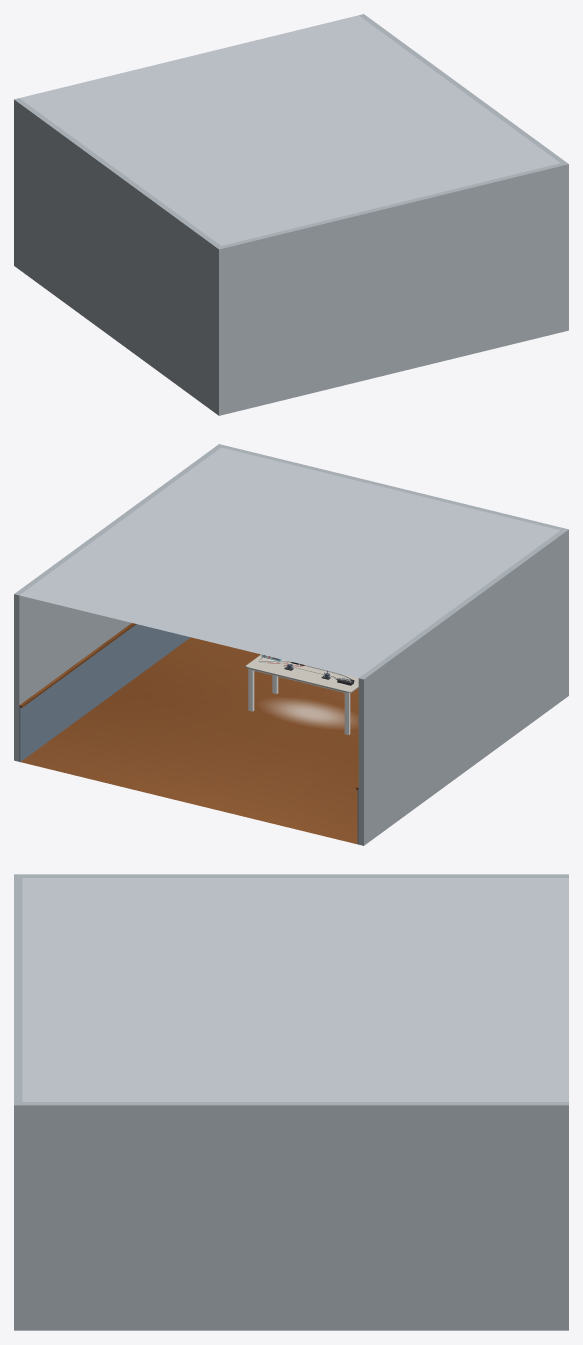
The model's file is OurLab.fbx.
3 views of the same model, one above another, from view 1: azimuth 30°, elevation 25°; view 2: azimuth 150°, elevation 25°; view 3: azimuth 270°, elevation 25° (orthographic). The views are drawn at different scales.
Parts seen in each view (by area): view 1: Ceiling, Back_Wall, Side_Wall.001, Side_Wall; view 2: Ceiling, Floor, Side_Wall.001, Side_Wall, Wainscot.001, Back_Wall, Wood, Contact_Shadow.006, Legs, Wainscot_Rail.001; view 3: Side_Wall, Ceiling, Back_Wall, Side_Wall.001.
Part boxes in pixels (x1=…): Ceiling: x1=19, y1=15, x2=560, y2=245; Back_Wall: x1=216, y1=162, x2=568, y2=415; Side_Wall.001: x1=14, y1=98, x2=220, y2=413; Side_Wall: x1=359, y1=14, x2=565, y2=162; Ceiling: x1=19, y1=447, x2=559, y2=677; Floor: x1=20, y1=637, x2=358, y2=844; Side_Wall.001: x1=358, y1=530, x2=565, y2=845; Side_Wall: x1=14, y1=446, x2=220, y2=761; Wainscot.001: x1=19, y1=624, x2=190, y2=761; Back_Wall: x1=216, y1=444, x2=568, y2=697; Wood: x1=245, y1=654, x2=358, y2=692; Contact_Shadow.006: x1=268, y1=700, x2=354, y2=726; Legs: x1=248, y1=668, x2=350, y2=734; Wainscot_Rail.001: x1=19, y1=623, x2=136, y2=707; Side_Wall: x1=22, y1=1102, x2=568, y2=1330; Ceiling: x1=22, y1=878, x2=568, y2=1101; Back_Wall: x1=14, y1=874, x2=22, y2=1330; Side_Wall.001: x1=22, y1=874, x2=568, y2=877.
Bounding box in the file's own units: 6.6 × 3 × 6.7.
Materials: 51 (12 with a texture image).
